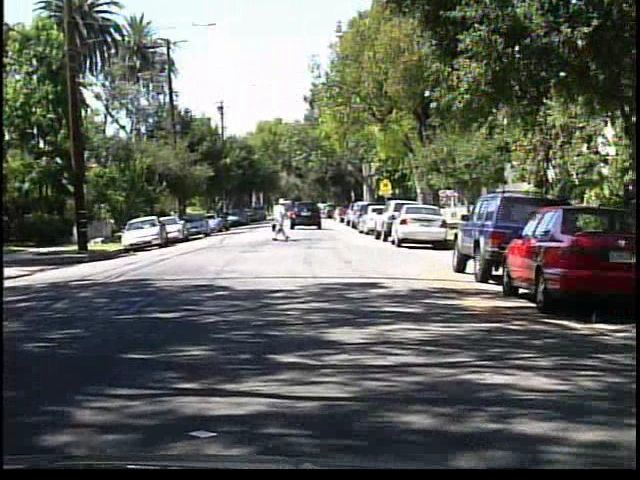person: (268, 196, 295, 245)
